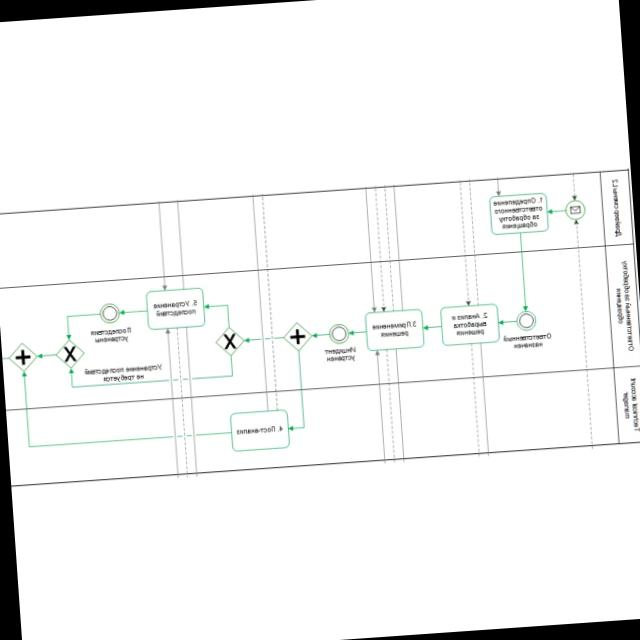arrow: (21, 357, 231, 449), (68, 355, 235, 389), (283, 350, 308, 432), (64, 309, 101, 339), (516, 232, 529, 311), (204, 301, 231, 329), (243, 333, 284, 345), (119, 307, 147, 316), (37, 351, 57, 361), (547, 206, 566, 215), (498, 317, 517, 326), (423, 323, 441, 331), (312, 331, 330, 339), (349, 329, 366, 336)
circle: (96, 300, 122, 327), (325, 321, 351, 347), (562, 197, 587, 222), (515, 310, 537, 332)
diamond: (214, 326, 245, 357), (281, 322, 311, 352), (7, 342, 37, 372), (55, 340, 84, 369)
rectangle: (439, 303, 499, 346), (145, 287, 205, 330), (488, 193, 548, 236), (229, 410, 289, 452), (364, 310, 422, 350)
text_region: (83, 362, 164, 384), (502, 331, 553, 351), (90, 326, 132, 344), (323, 344, 358, 364)
